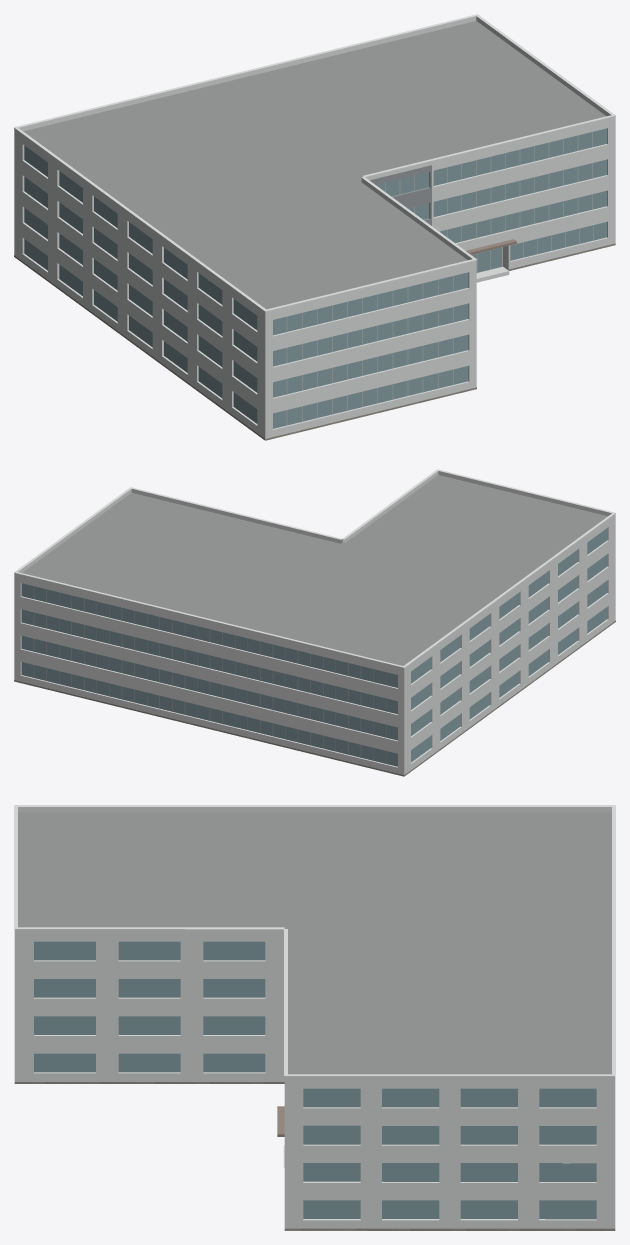
3 renders of one model, top to bottom at view 1: azimuth 30°, elevation 25°; view 2: azimuth 150°, elevation 25°; view 3: azimuth 270°, elevation 25°, orthographic. The views are drawn at different scales.
Parts seen in each view (by area): view 1: osm631011001__roof, osm631011001__wall, osm631011001__glass, osm631011001__parapet, osm631011001__trim, osm631011001__frame, osm631011001__base, osm631011001__wall2; view 2: osm631011001__roof, osm631011001__wall, osm631011001__glass, osm631011001__parapet, osm631011001__trim, osm631011001__frame, osm631011001__base; view 3: osm631011001__roof, osm631011001__wall, osm631011001__glass, osm631011001__parapet, osm631011001__trim, osm631011001__base.
Part boxes in pixels (x1,y1,x2,y2): osm631011001__roof: [23, 21, 605, 309]; osm631011001__wall: [14, 120, 615, 440]; osm631011001__glass: [24, 128, 606, 428]; osm631011001__parapet: [14, 16, 615, 315]; osm631011001__trim: [14, 14, 615, 311]; osm631011001__frame: [286, 132, 593, 425]; osm631011001__base: [14, 243, 615, 440]; osm631011001__wall2: [370, 165, 431, 225]; osm631011001__roof: [22, 475, 607, 665]; osm631011001__wall: [14, 517, 615, 776]; osm631011001__glass: [21, 528, 607, 766]; osm631011001__parapet: [14, 471, 615, 671]; osm631011001__trim: [14, 469, 615, 668]; osm631011001__frame: [33, 586, 386, 763]; osm631011001__base: [14, 620, 615, 776]; osm631011001__roof: [18, 812, 611, 1230]; osm631011001__wall: [14, 934, 615, 1228]; osm631011001__glass: [34, 941, 596, 1219]; osm631011001__parapet: [14, 807, 615, 1081]; osm631011001__trim: [14, 805, 615, 1076]; osm631011001__base: [14, 1082, 615, 1230].
Bounding box in the file's own units: 56.08 × 15.35 × 52.66.
11 materials, 1 textured.
